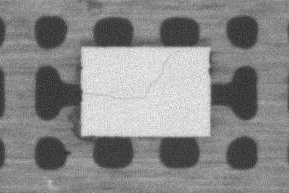DIE_CRACK: (83, 49, 181, 99)
